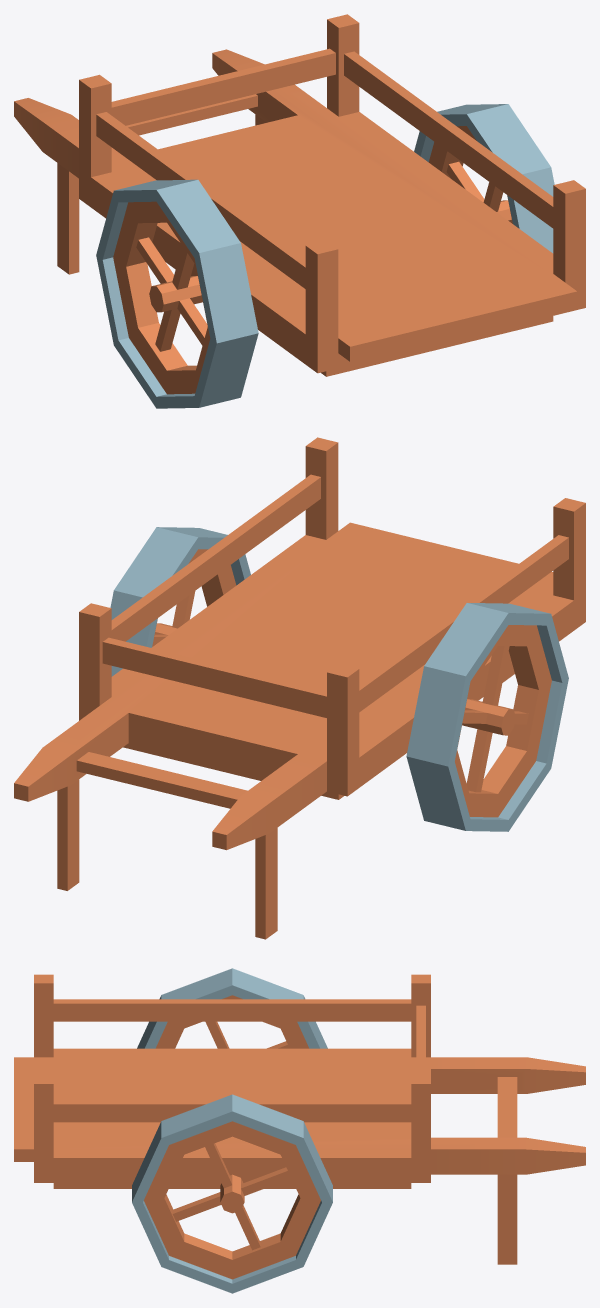
Rendered from cart.fbx.
The picture shows the model from 3 angles, top to bottom: view 1: azimuth 30°, elevation 25°; view 2: azimuth 150°, elevation 25°; view 3: azimuth 270°, elevation 25°; orthographic projection. The views are drawn at different scales.
Visible parts, largest first — view 1: cart, wheel (×2); view 2: cart, wheel (×2); view 3: cart, wheel (×2).
Boxes of the visible parts, x1=… form: cart: x1=14, y1=14, x2=585, y2=376; wheel (×2): x1=96, y1=104, x2=554, y2=408; cart: x1=14, y1=437, x2=585, y2=939; wheel (×2): x1=110, y1=527, x2=568, y2=831; cart: x1=14, y1=974, x2=585, y2=1264; wheel (×2): x1=132, y1=968, x2=332, y2=1293.
Size of the model in its own units: 8.53 by 5.36 by 14.4.
